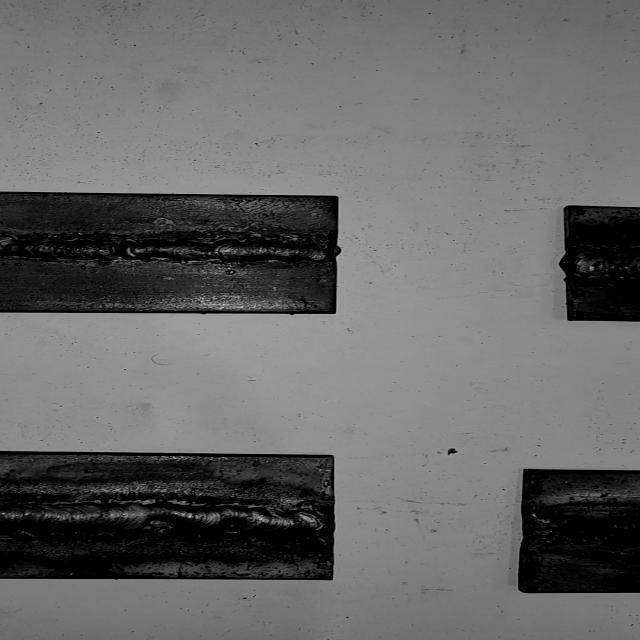Defect: (525, 512, 640, 548), (132, 508, 200, 548)
Welding Line: (0, 496, 331, 544), (0, 234, 335, 267), (523, 516, 640, 551), (568, 245, 640, 279)
Workpiece: (0, 448, 344, 584), (0, 188, 353, 318), (513, 462, 640, 596), (550, 201, 640, 325)
